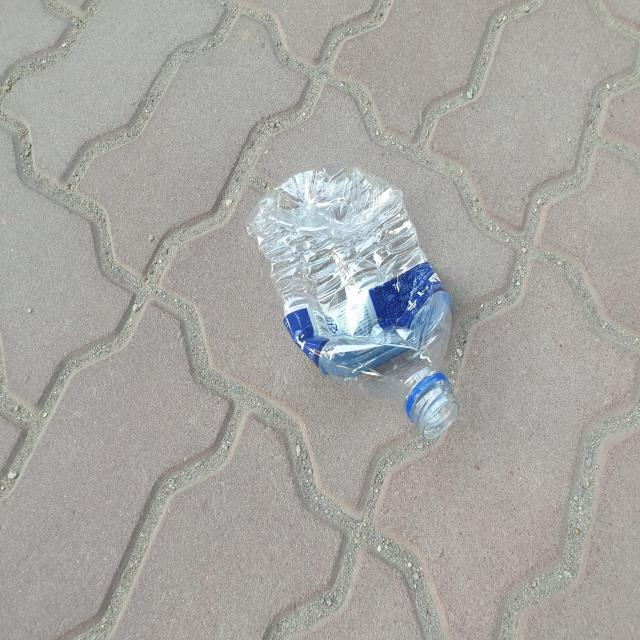plastic: (247, 164, 459, 440)
